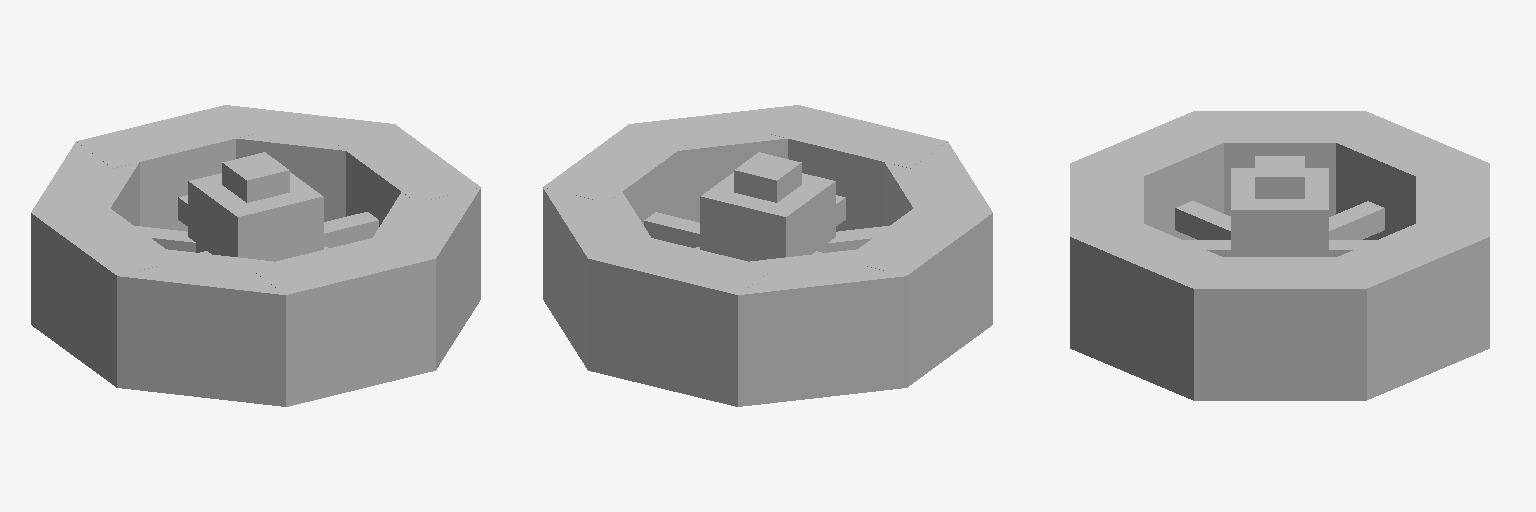
Rendered from item.obj.
The picture shows the model from 3 angles: view 1: azimuth 30°, elevation 25°; view 2: azimuth 150°, elevation 25°; view 3: azimuth 270°, elevation 25°; orthographic projection.
Parts seen in each view (by area): view 1: 1, 8, 2, 4, 12, 7, 6, 5, 3, shaft, 11, 13; view 2: 3, 4, 2, 8, 12, 5, 6, 7, 1, shaft, 11, 10; view 3: 6, 7, 5, 2, 3, 1, 12, 4, 8, shaft, 10, 13 (+1 smaller).
Boxes of the visible parts, box(x1,y1,x2,y2) form: 1: box(117, 249, 285, 406); 8: box(250, 232, 435, 406); 2: box(31, 197, 180, 387); 4: box(76, 105, 261, 231); 12: box(188, 172, 323, 261); 7: box(373, 188, 480, 369); 6: box(331, 124, 480, 226); 5: box(227, 105, 391, 221); 3: box(31, 142, 139, 225); shaft: box(222, 152, 289, 202); 11: box(200, 212, 378, 253); 13: box(135, 226, 328, 252); 3: box(738, 249, 906, 406); 4: box(588, 232, 773, 406); 2: box(843, 197, 992, 387); 8: box(762, 105, 947, 231); 12: box(700, 172, 835, 261); 5: box(543, 188, 650, 369); 6: box(543, 124, 692, 224); 7: box(632, 105, 796, 222); 1: box(884, 142, 992, 225); shaft: box(734, 152, 801, 202); 11: box(644, 212, 821, 253); 10: box(695, 226, 888, 252); 6: box(1193, 257, 1366, 400); 7: box(1070, 224, 1221, 400); 5: box(1338, 224, 1489, 399); 2: box(1193, 111, 1366, 216); 3: box(1336, 112, 1487, 239); 1: box(1072, 112, 1223, 239); 12: box(1231, 168, 1328, 256); 4: box(1416, 163, 1489, 236); 8: box(1070, 163, 1143, 236); shaft: box(1255, 156, 1304, 198); 10: box(1175, 201, 1230, 239); 13: box(1329, 201, 1384, 239).
Size of the model in its own units: 2.13 by 1 by 2.13.